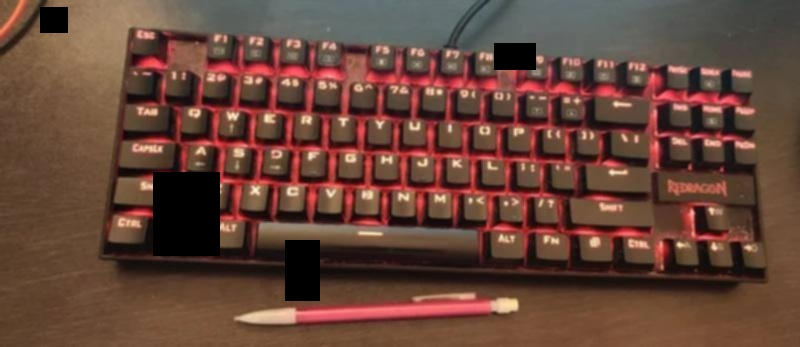-: (194, 146, 207, 156)
0: (493, 92, 511, 103)
0-1-2-3-4-5-6-7-8-9-A-B-C-D-E-F: (130, 68, 152, 78), (619, 133, 639, 144), (579, 130, 596, 142), (562, 96, 582, 106), (466, 197, 486, 207), (545, 129, 562, 140), (519, 162, 536, 173), (538, 199, 555, 210), (502, 197, 520, 206), (554, 164, 572, 173), (530, 94, 546, 103)
1: (170, 71, 186, 81)
2: (207, 72, 226, 82)
3: (244, 74, 263, 85)
4: (280, 78, 302, 89)
5: (317, 80, 338, 91)
6: (353, 83, 372, 92)
7: (388, 84, 409, 95)
8: (424, 86, 445, 97)
9: (459, 89, 478, 99)
A: (216, 222, 238, 233), (497, 233, 516, 244)
ALT: (362, 190, 374, 203)
B: (609, 99, 636, 112)
BACKSPACE: (285, 186, 300, 197)
C: (129, 143, 165, 154)
CAPSLK: (115, 217, 142, 229), (627, 239, 650, 250)
CTRL: (270, 149, 283, 160)
D: (672, 137, 688, 146)
DEL: (710, 241, 724, 252)
DOWN: (264, 112, 278, 125)
E: (704, 138, 721, 147)
END: (606, 165, 634, 180)
ENTER: (136, 29, 155, 40)
ESC: (307, 151, 320, 162)
F: (214, 34, 228, 45)
F1: (562, 57, 582, 67)
F10: (596, 60, 615, 70)
F11: (628, 62, 647, 72)
F12: (250, 35, 265, 46)
F2: (286, 39, 302, 49)
F3: (321, 41, 338, 51)
F4: (375, 45, 391, 55)
F5: (409, 47, 425, 57)
F6: (445, 50, 459, 60)
F7: (478, 52, 493, 62)
F8: (529, 55, 544, 65)
F9: (542, 235, 560, 246)
FN: (344, 152, 358, 163)
G: (380, 155, 395, 166)
H: (704, 104, 722, 114)
HOME: (445, 123, 452, 134)
I: (672, 102, 690, 114)
INS: (416, 157, 430, 169)
J: (451, 158, 463, 168)
K: (98, 29, 769, 282)
KEYBOARD: (486, 161, 501, 171)
L: (676, 240, 692, 249)
LEFT: (432, 193, 447, 204)
M: (589, 236, 601, 247)
MENU: (397, 191, 411, 202)
N: (477, 125, 491, 136)
O: (512, 126, 525, 140)
P: (731, 69, 752, 79)
PAUSE: (736, 140, 756, 149)
PGDN: (736, 106, 755, 116)
PGUP: (668, 64, 688, 76)
PRTSC: (187, 108, 202, 119)
Q: (300, 115, 313, 126)
R: (744, 243, 759, 253)
RIGHT: (232, 147, 245, 158)
S: (700, 68, 720, 77)
SCRLK: (138, 181, 169, 192), (598, 203, 625, 213)
SHIFT: (258, 222, 479, 259)
SPACE: (337, 117, 350, 128)
T: (135, 107, 160, 117)
TAB: (408, 120, 422, 131)
U: (708, 207, 724, 217)
UP: (324, 187, 340, 200)
V: (225, 111, 240, 121)
W: (172, 221, 185, 232)
WIN: (249, 185, 262, 196)
X: (373, 120, 386, 130)
Y: (208, 183, 223, 194)
